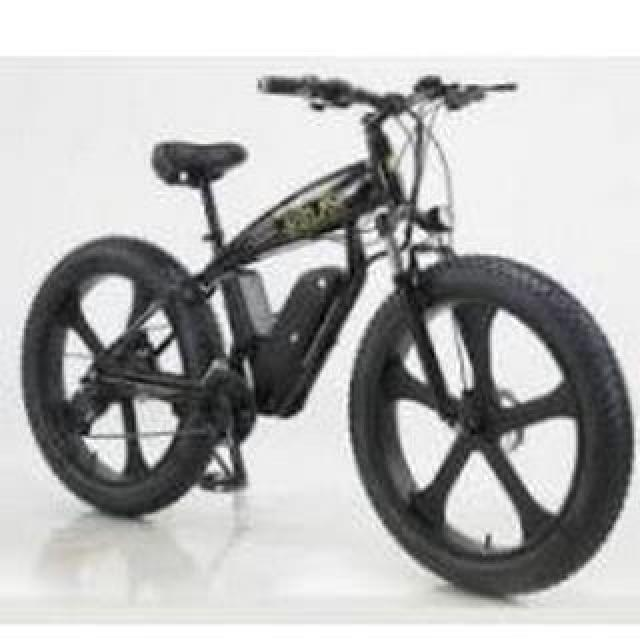Person: (20, 74, 634, 600)
